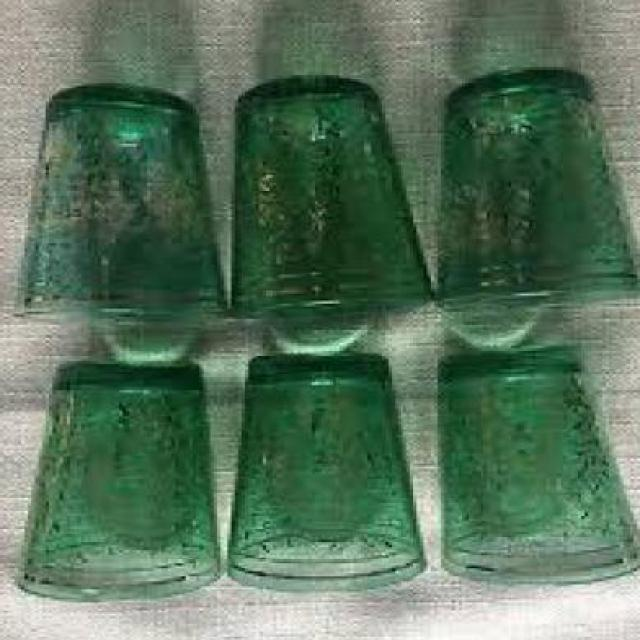kaca: (431, 70, 640, 316), (12, 91, 225, 326), (428, 353, 640, 589), (12, 364, 220, 602), (220, 352, 424, 594), (228, 80, 428, 322)
